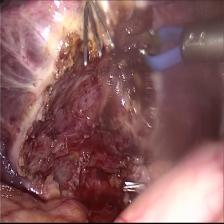Bipolar: (121, 21, 224, 71)
